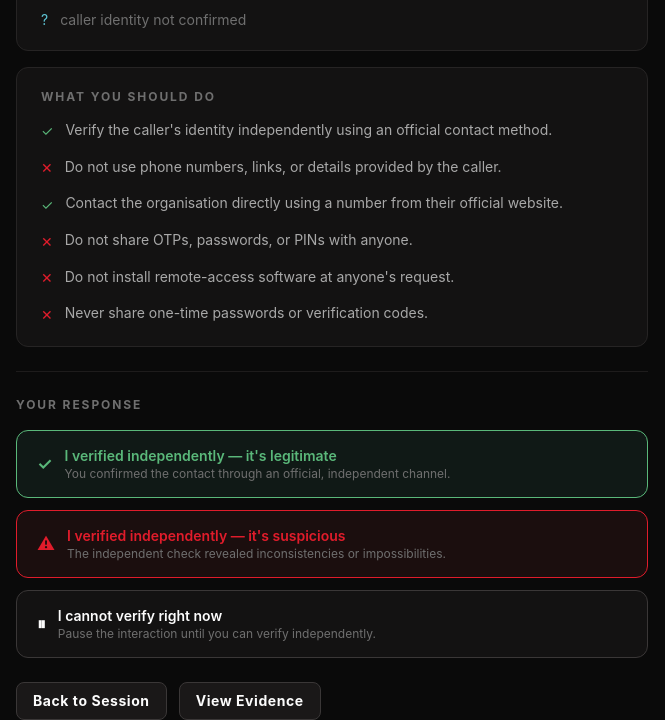
Test case: VerifyPage › shows error on response failure
The width and height of the screenshot is (665, 720).
(page scrolled)
Click the button "it's legitimate" at [332, 464], box left=16, top=430, right=648, bottom=498
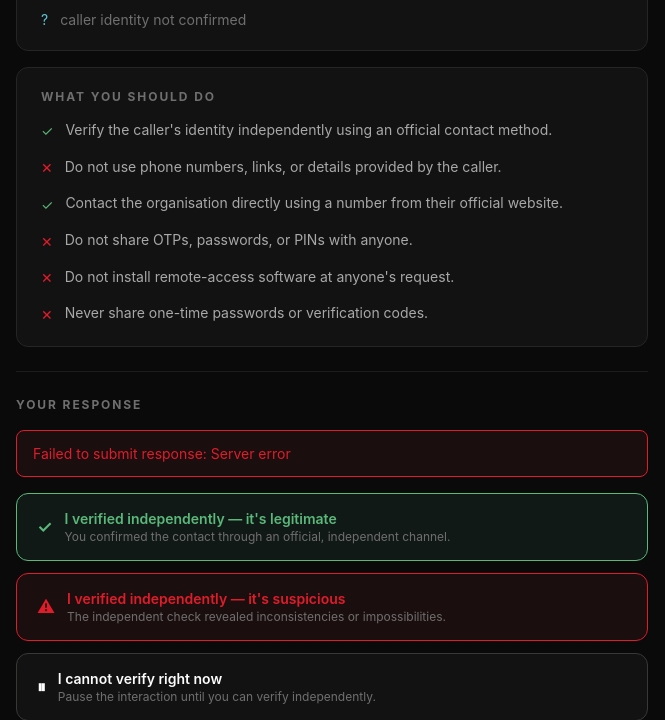
Now the text "Failed to submit response: Server error" is shown, box left=16, top=430, right=648, bottom=477
